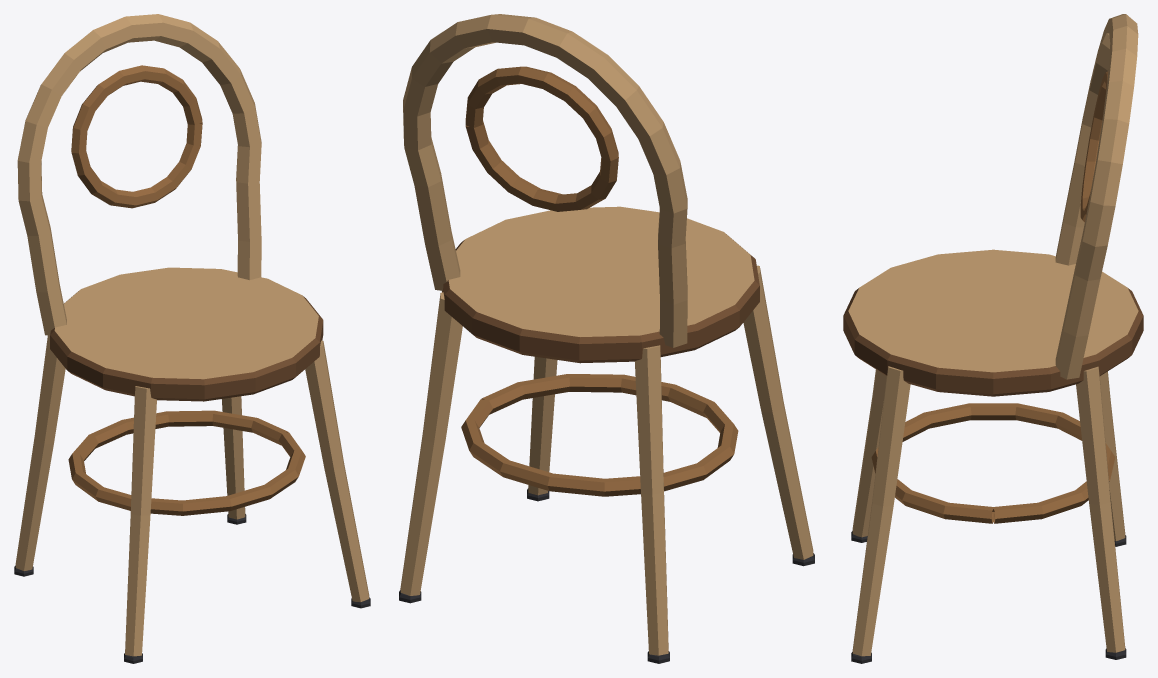
Rendered from FN_Chair_Cafe.obj.
3 renders of one model, left to right at view 1: azimuth 30°, elevation 25°; view 2: azimuth 150°, elevation 25°; view 3: azimuth 270°, elevation 25°, orthographic. The views are drawn at different scales.
Parts seen in each view (by area): view 1: FN_Chair_Cafe; view 2: FN_Chair_Cafe; view 3: FN_Chair_Cafe.
Boxes of the visible parts, x1,y1,x2,y2 form: FN_Chair_Cafe: (14, 14, 370, 663); FN_Chair_Cafe: (399, 14, 814, 663); FN_Chair_Cafe: (843, 14, 1143, 663).
Bounding box in the file's own units: 0.44 × 0.8966 × 0.426.
Materials: 1 (1 with a texture image).
